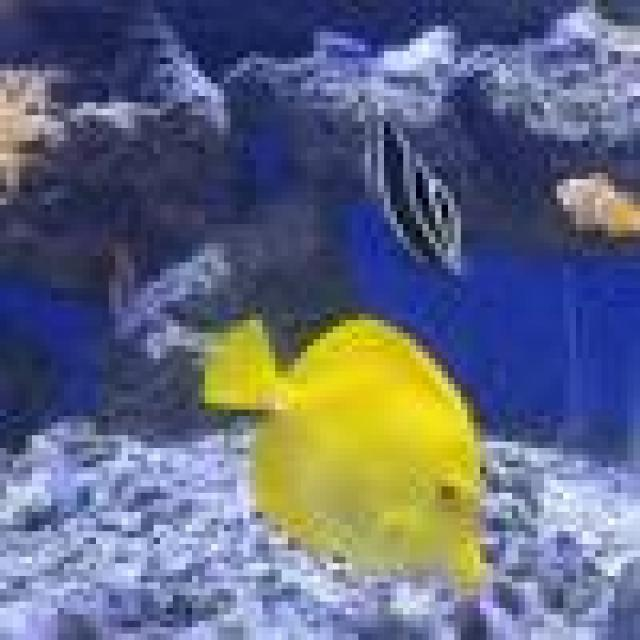YellowTang: (180, 297, 501, 611)
